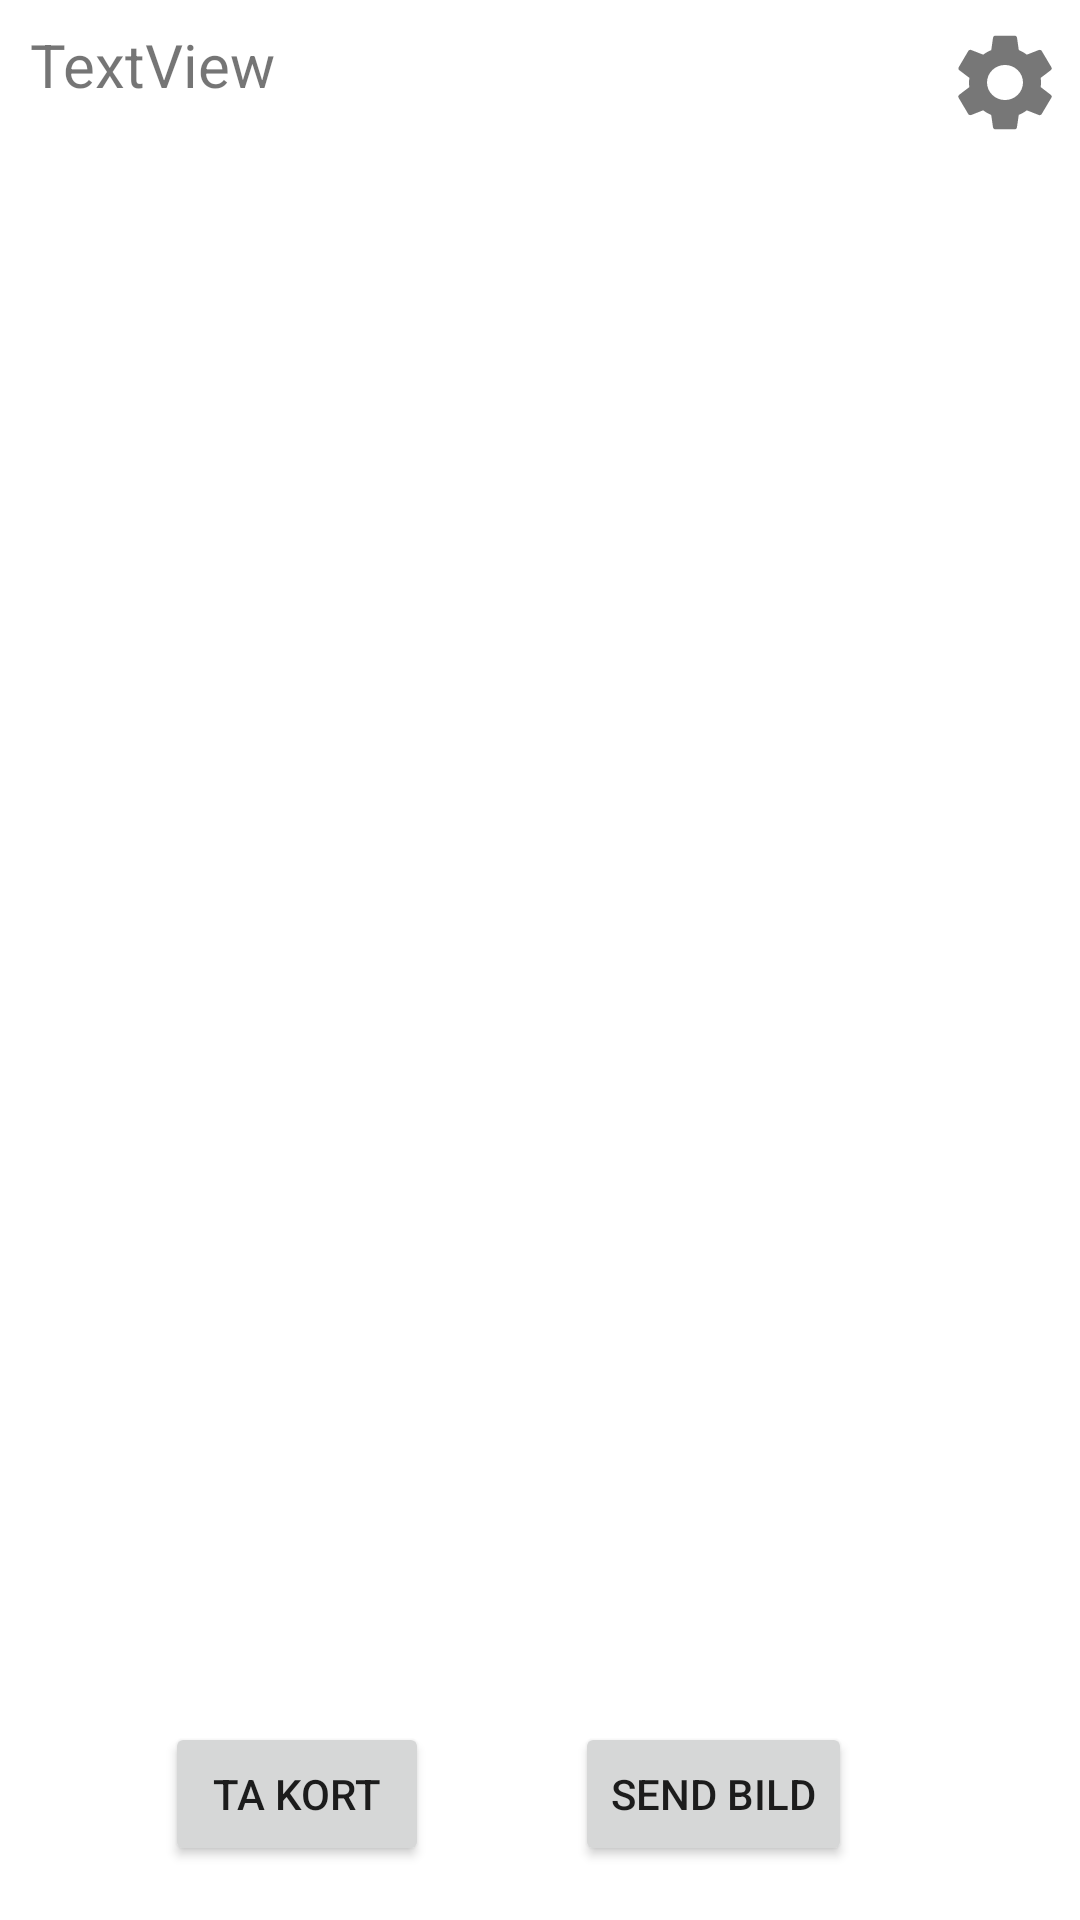

Named icons in this screenshot (1080w x 1920h) and their centers, (x=x, y=y):
settings: (x=1005, y=82)
